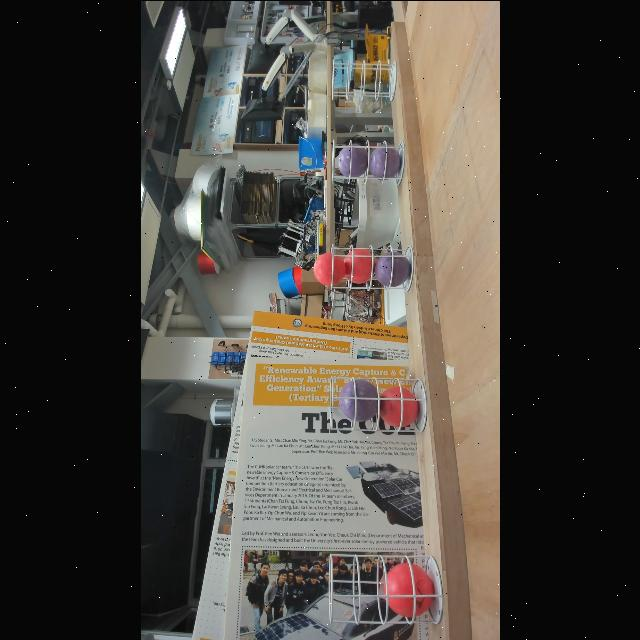P: (338, 377, 380, 421), (374, 250, 410, 286), (367, 144, 401, 180), (337, 142, 369, 178)
R: (382, 561, 436, 617), (378, 384, 420, 428), (341, 248, 375, 282), (312, 252, 346, 284)
S: (326, 551, 444, 625), (328, 376, 428, 432), (330, 243, 414, 291), (330, 138, 406, 185), (331, 58, 397, 100)
